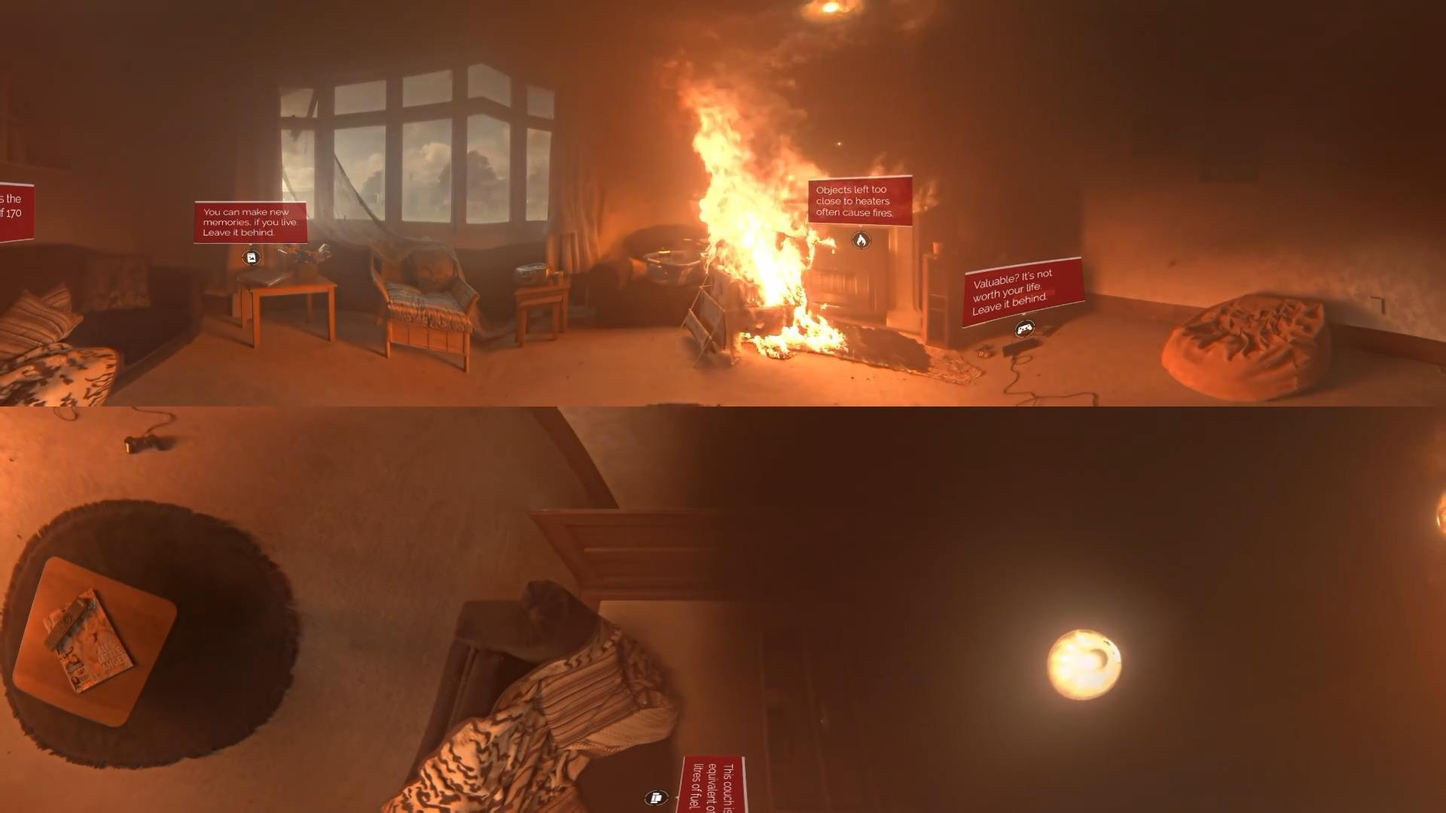fire: (664, 69, 848, 361)
